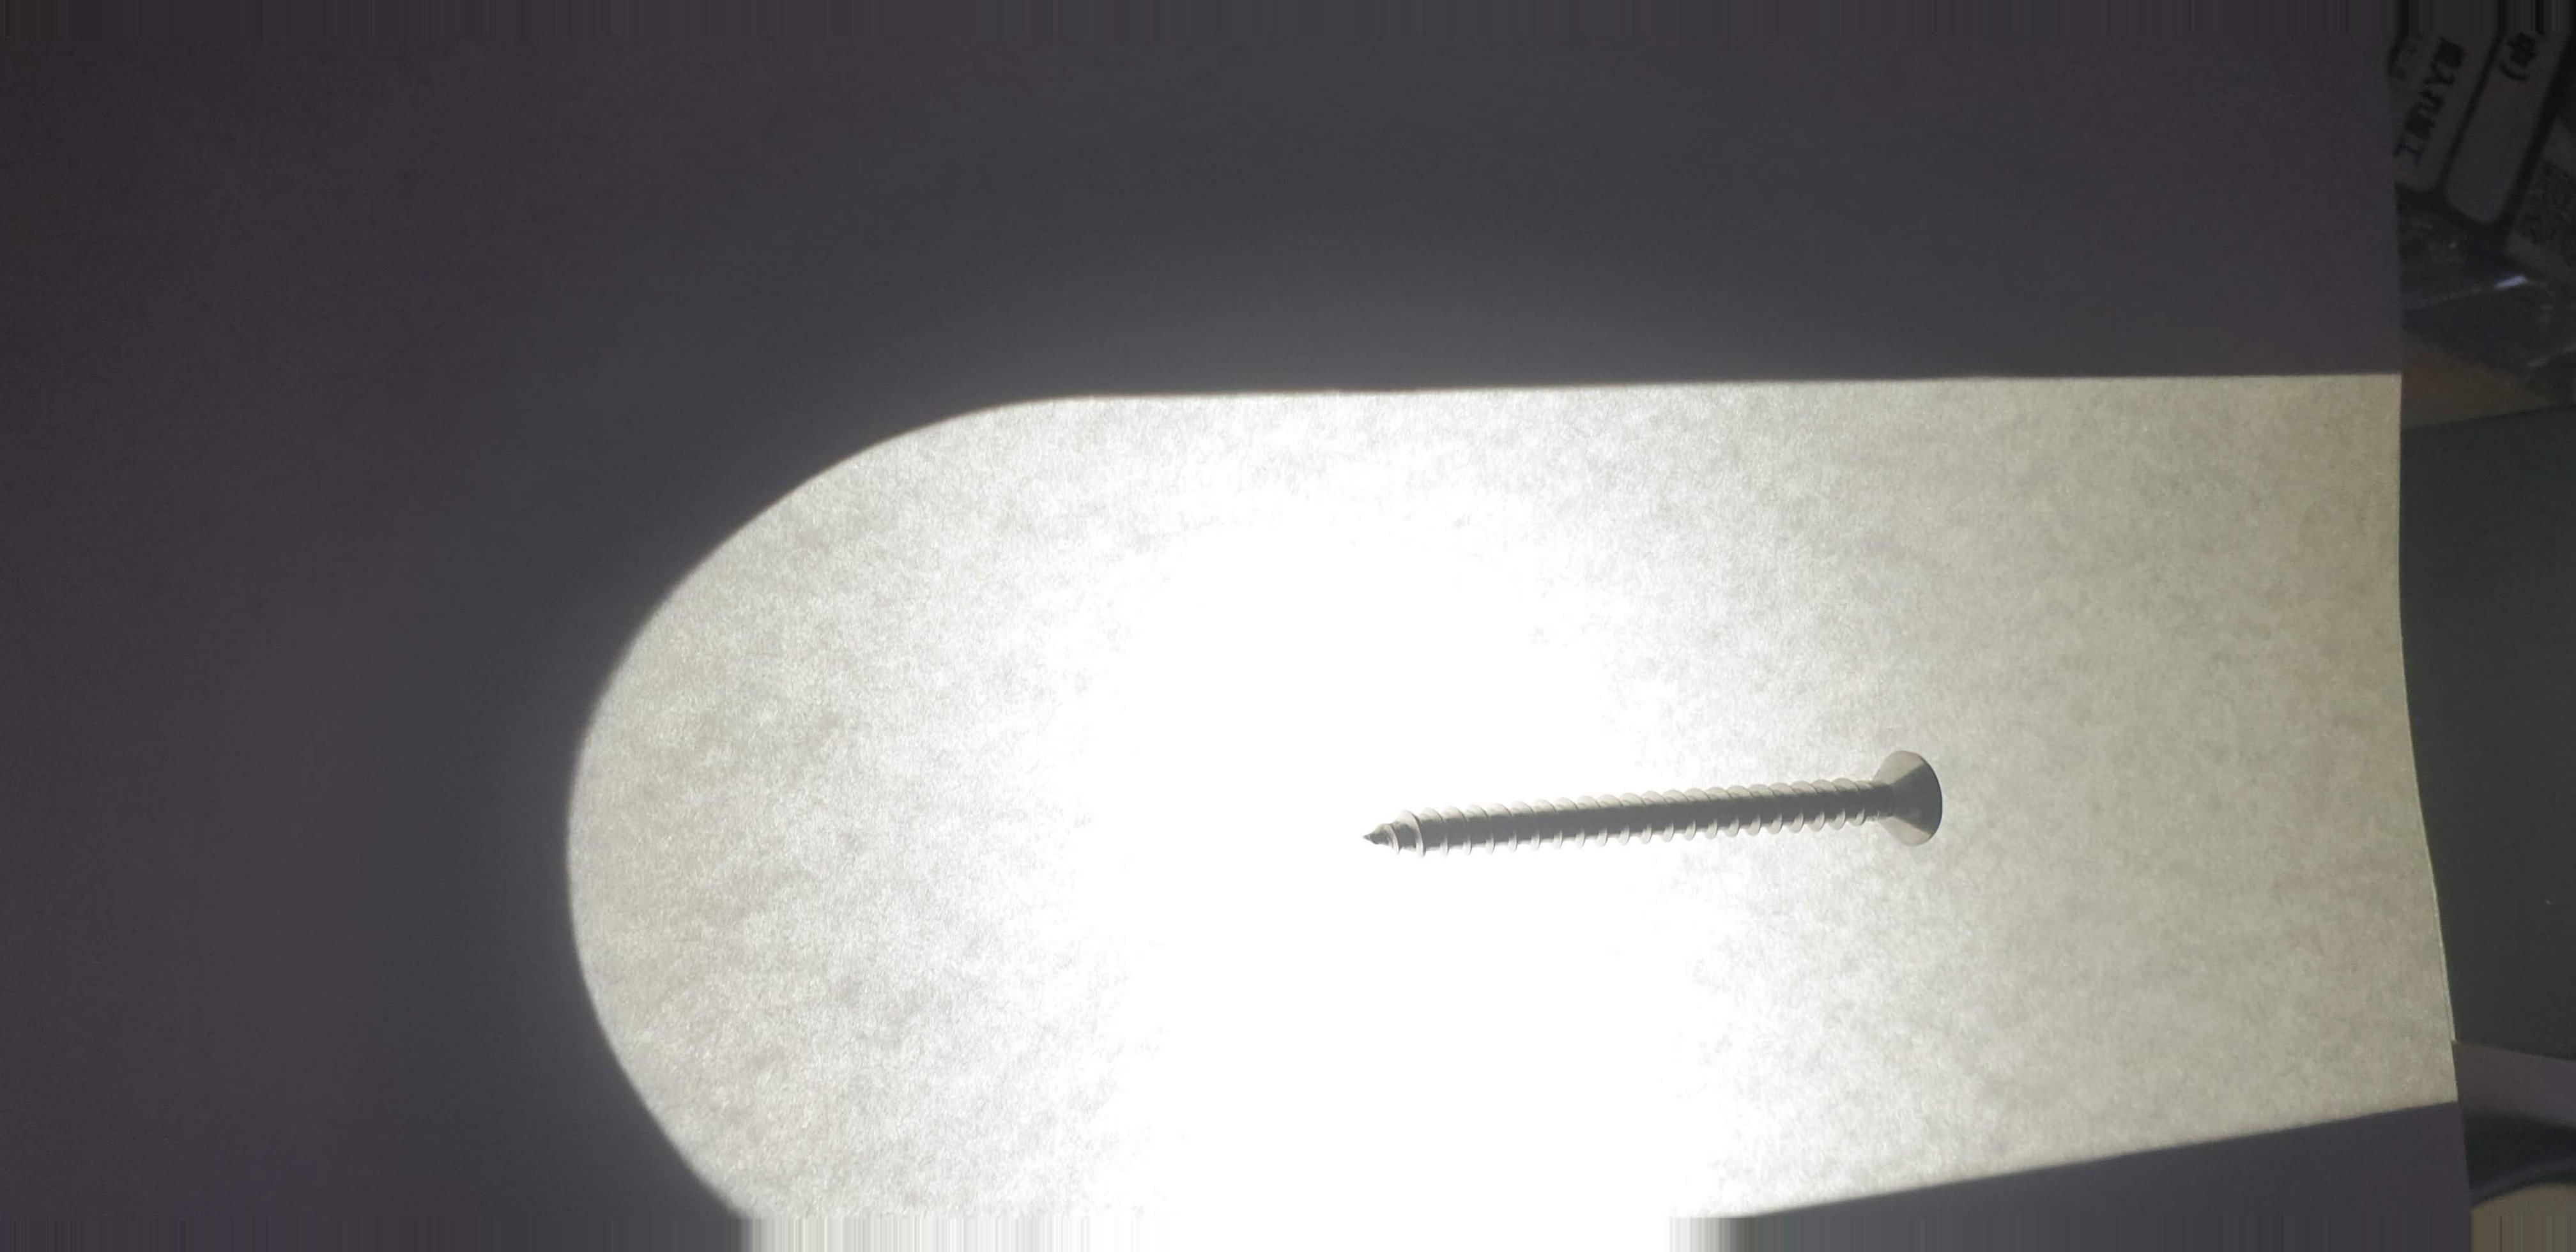S001: (1324, 733, 1971, 884)
